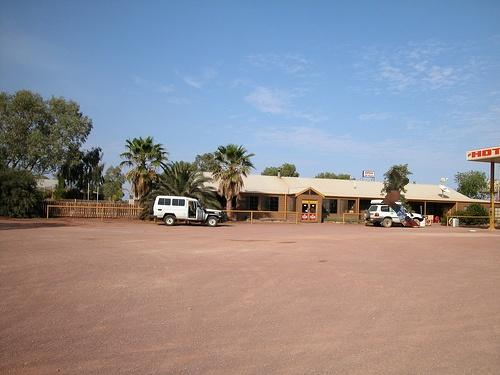tampered: (382, 171, 420, 226)
